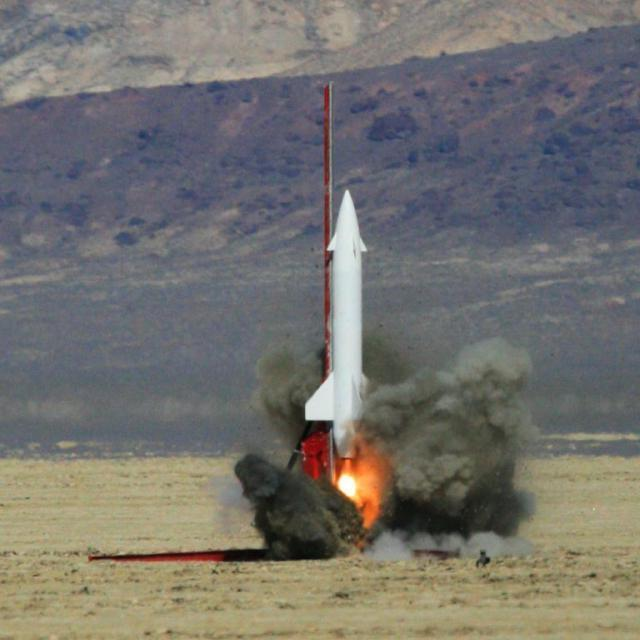missile: (302, 184, 402, 470)
